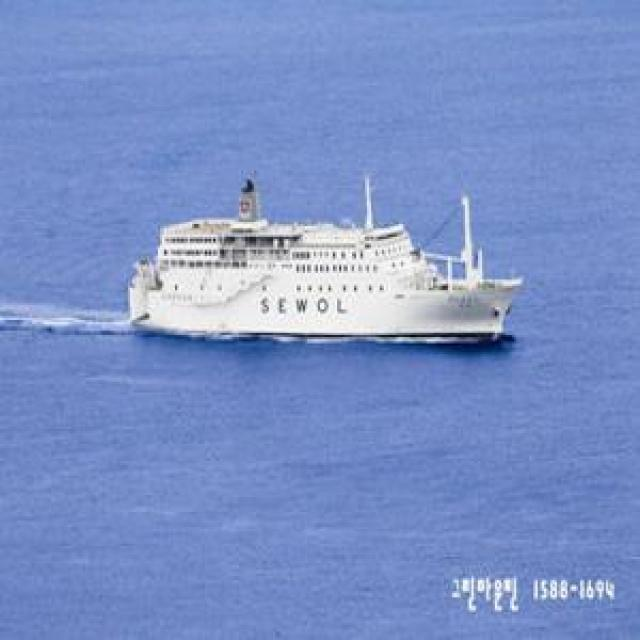passenger ship: (134, 159, 530, 358)
